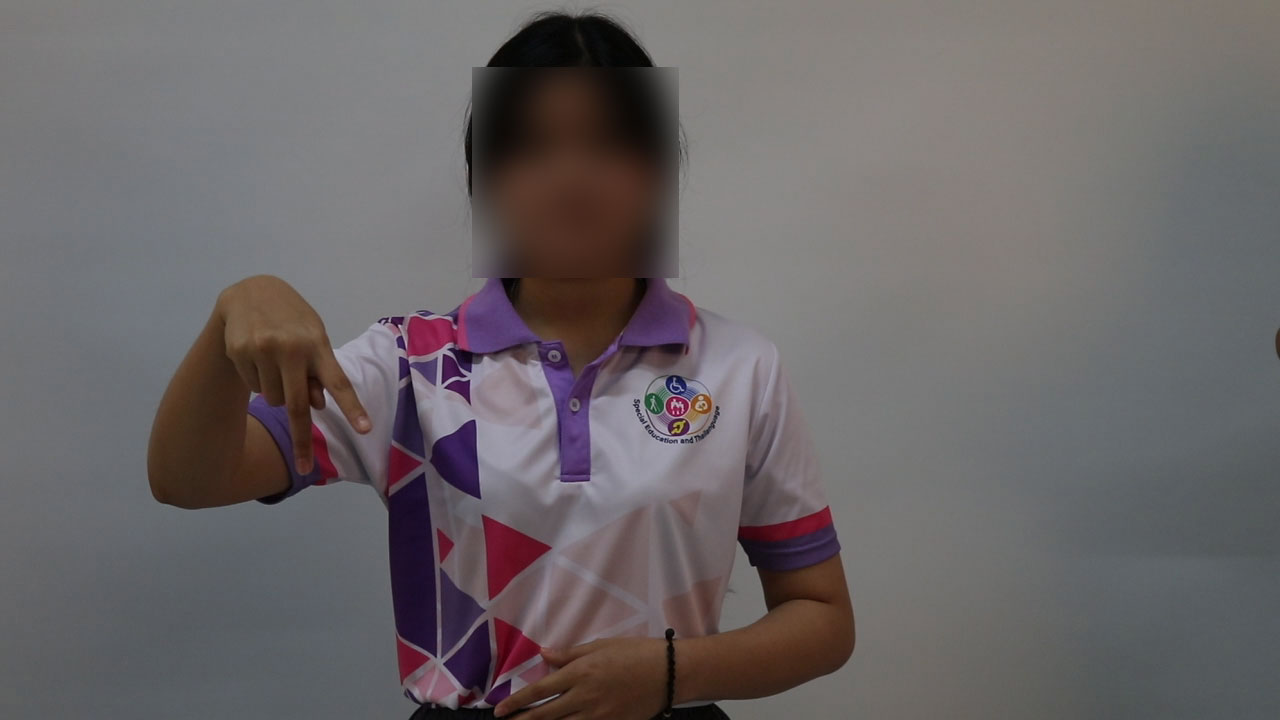por: (203, 250, 386, 483)
